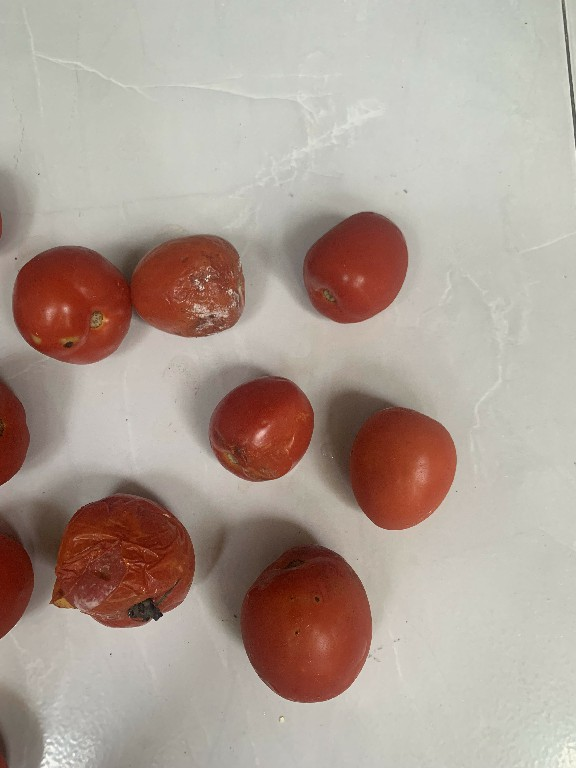NG: (44, 490, 204, 634), (11, 237, 130, 372), (202, 368, 320, 492), (125, 225, 253, 339)
OK: (228, 535, 384, 712), (346, 395, 466, 540), (296, 202, 419, 330)
